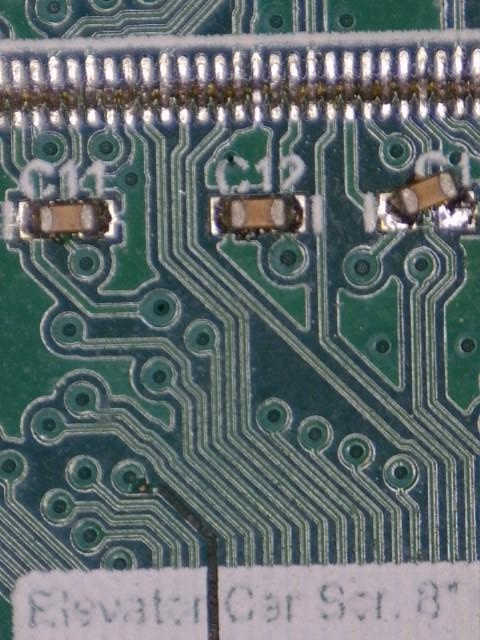pcb_defect: (380, 171, 476, 231)
